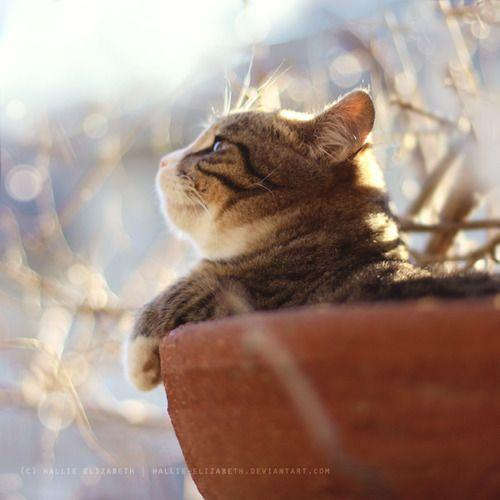kedo: (125, 88, 498, 390)
